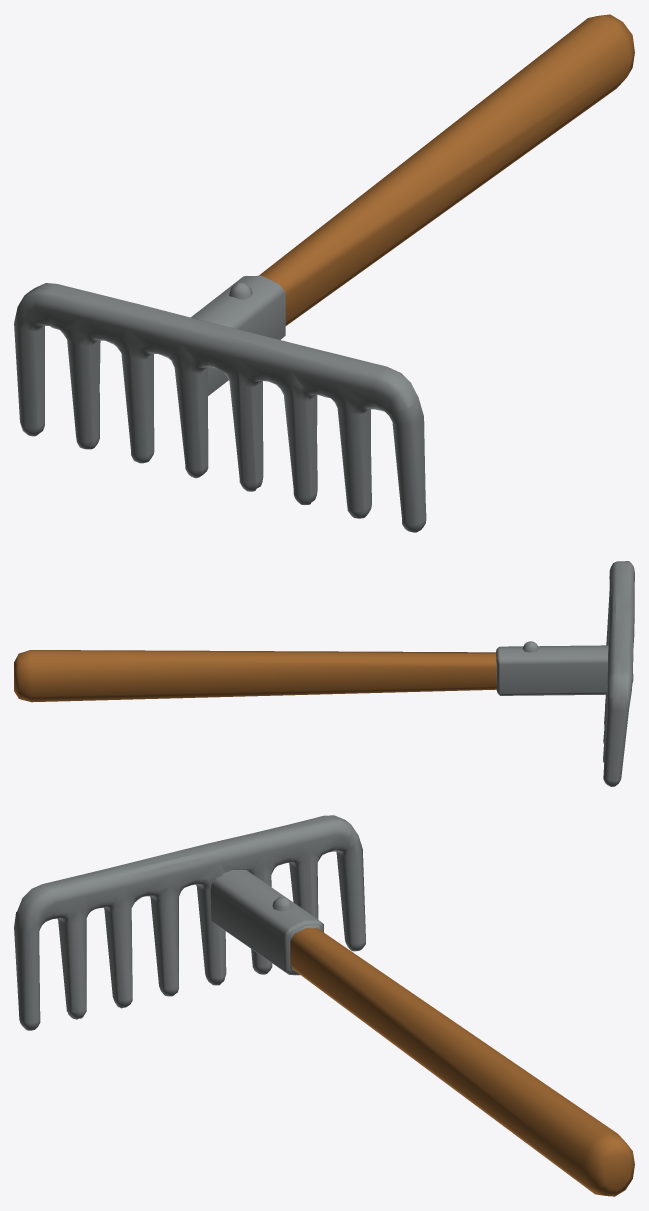
Rendered from Rake.glb.
The picture shows the model from 3 angles, top to bottom: view 1: azimuth 30°, elevation 25°; view 2: azimuth 150°, elevation 25°; view 3: azimuth 270°, elevation 25°; orthographic projection. The views are drawn at different scales.
Visible parts, largest first — view 1: Rake; view 2: Rake; view 3: Rake.
Part boxes in pixels (<box>): Rake: <box>14,14,634,532</box>; Rake: <box>14,561,634,786</box>; Rake: <box>14,815,634,1196</box>.
Size of the model in its own units: 0.3462 by 0.0693 by 0.2886.
